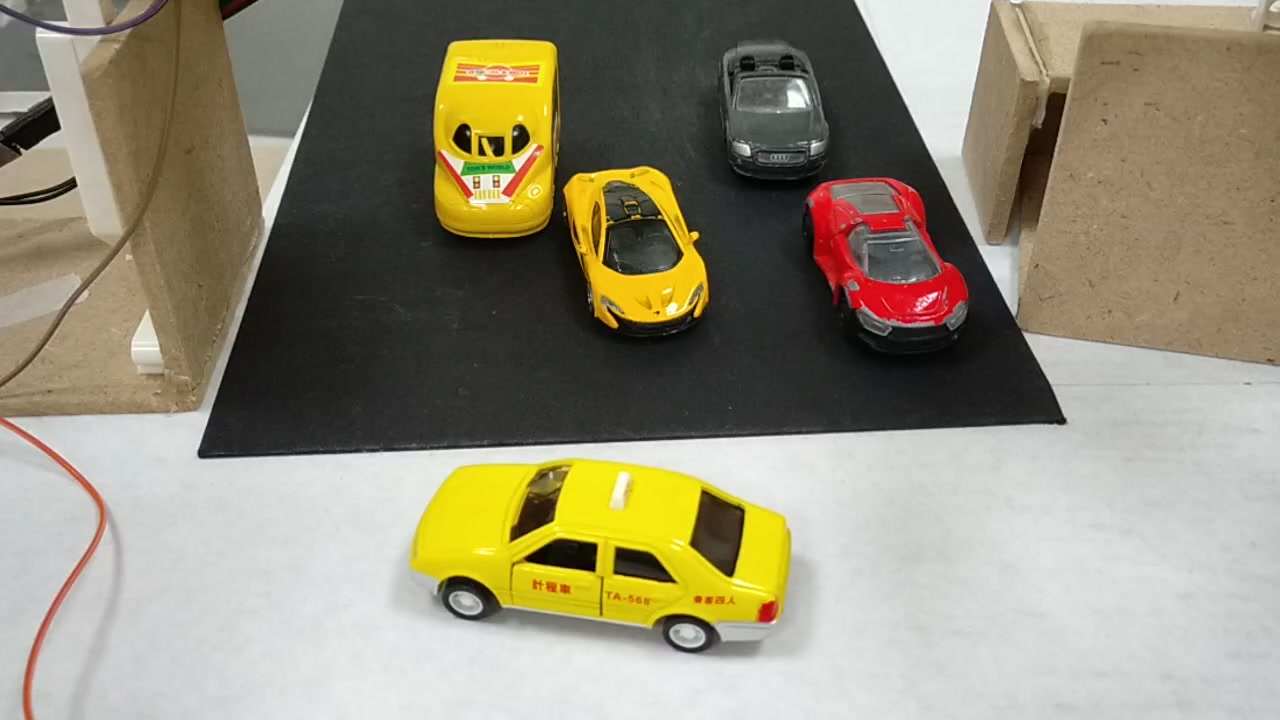car: (412, 458, 796, 658), (802, 178, 969, 349), (558, 166, 708, 336), (716, 43, 830, 177)
